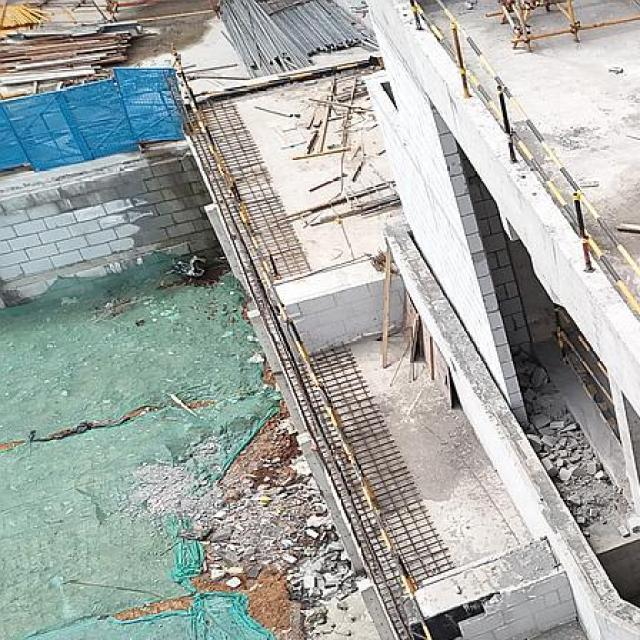edge_guardrail: (169, 49, 418, 596), (408, 0, 640, 313), (554, 307, 616, 406)
